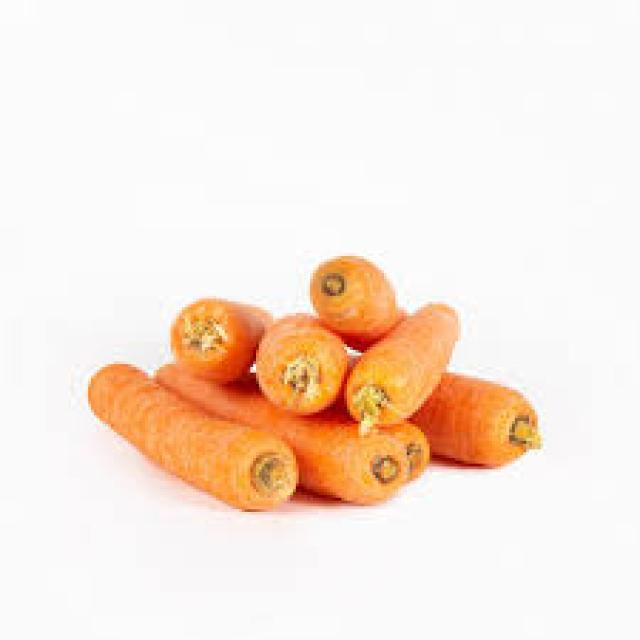Fresh_Carrot: (156, 364, 409, 503), (89, 364, 296, 509), (345, 304, 459, 429), (256, 314, 349, 415), (310, 256, 402, 350), (171, 299, 272, 382)
